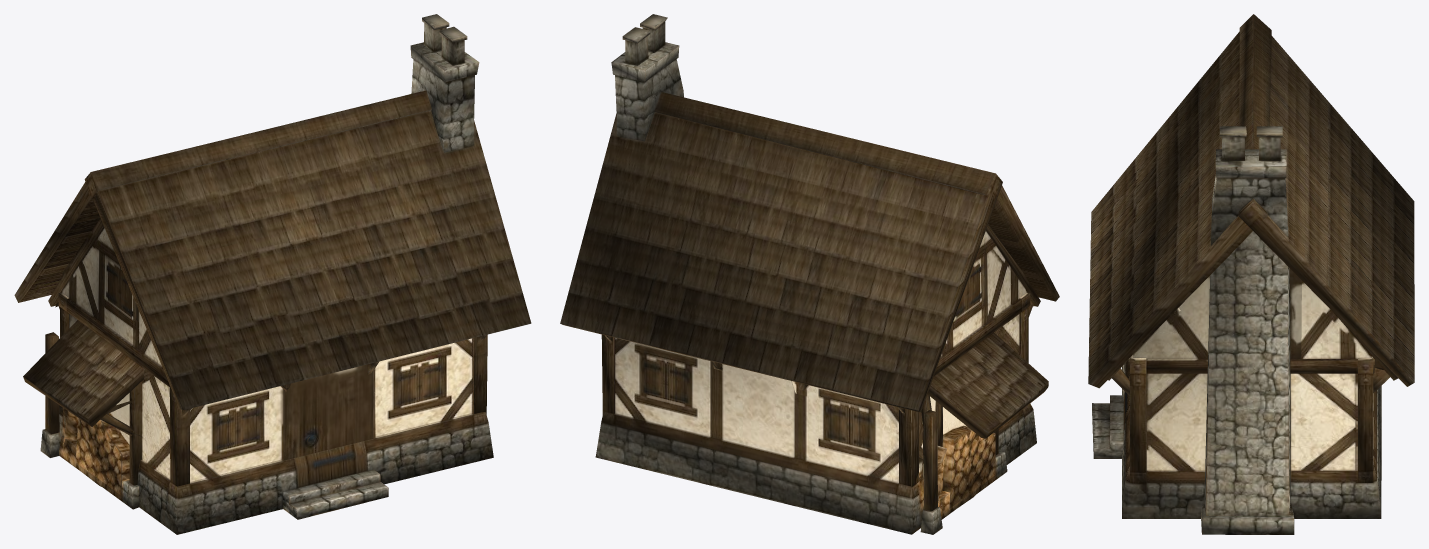
The model's file is building-cottage-01.glb.
3 renders of one model, left to right at view 1: azimuth 30°, elevation 25°; view 2: azimuth 150°, elevation 25°; view 3: azimuth 270°, elevation 25°, orthographic. The views are drawn at different scales.
Size of the model in its own units: 0.9585 by 0.8687 by 0.6479.
1 material, 1 textured.
